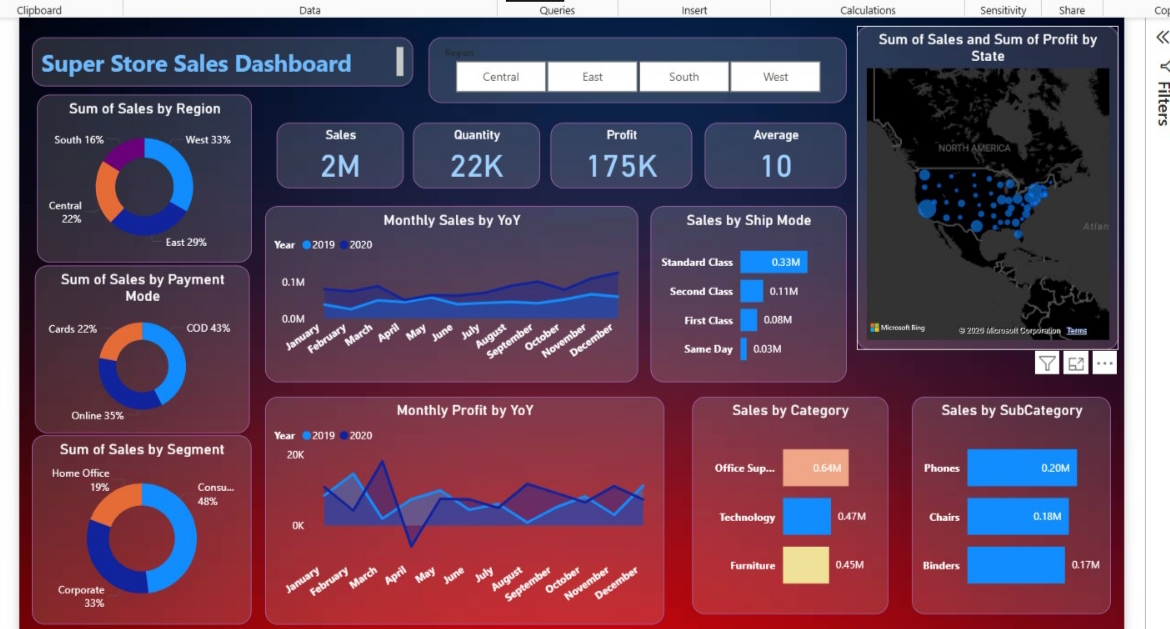

Layout of this report page (visuals, bound fields, positions):
{"tool":"powerbi","page":{"name":"Page 1","canvas":[1280,720],"ordinal":0},"visuals":[{"type":"clusteredBarChart","title":"Sales by Category","fields":{"Category":["SuperStore_Sales_Dataset.Category"],"Y":["Sum(SuperStore_Sales_Dataset.Sales)"]},"box":[779.4,439.1,226.8,252.1],"z":0},{"type":"clusteredBarChart","title":"Sales by SubCategory","fields":{"Category":["SuperStore_Sales_Dataset.Sub-Category"],"Y":["Sum(SuperStore_Sales_Dataset.Sales)"]},"box":[1033.9,439.1,230.4,252.1],"z":1000},{"type":"clusteredBarChart","title":"Sales by Ship Mode","fields":{"Category":["SuperStore_Sales_Dataset.Ship Mode"],"Y":["Sum(SuperStore_Sales_Dataset.Sales)"]},"box":[731.1,218.4,226.8,203.9],"z":2000},{"type":"areaChart","title":"Monthly Sales by YoY","fields":{"Y":["Sum(SuperStore_Sales_Dataset.Sales)"],"Category":["SuperStore_Sales_Dataset.Order Date.Variation.Date Hierarchy.Month","SuperStore_Sales_Dataset.Order Date.Variation.Date Hierarchy.Day"],"Series":["SuperStore_Sales_Dataset.Order Date.Variation.Date Hierarchy.Year"]},"box":[284.7,218.4,431.9,203.9],"z":3000},{"type":"areaChart","title":"Monthly Profit  by YoY","fields":{"Category":["SuperStore_Sales_Dataset.Order Date.Variation.Date Hierarchy.Month","SuperStore_Sales_Dataset.Order Date.Variation.Date Hierarchy.Day"],"Series":["SuperStore_Sales_Dataset.Order Date.Variation.Date Hierarchy.Year"],"Y":["Sum(SuperStore_Sales_Dataset.Profit)"]},"box":[284.7,439.1,462.1,264.2],"z":4000},{"type":"map","fields":{"Category":["SuperStore_Sales_Dataset.State"],"Size":["Sum(SuperStore_Sales_Dataset.Sales)"]},"box":[970,9.7,302.8,375.2],"z":5000},{"type":"donutChart","fields":{"Category":["SuperStore_Sales_Dataset.Segment"],"Y":["Sum(SuperStore_Sales_Dataset.Sales)"]},"box":[14.5,483.8,254.6,219.6],"z":6000},{"type":"donutChart","fields":{"Category":["SuperStore_Sales_Dataset.Payment Mode"],"Y":["Sum(SuperStore_Sales_Dataset.Sales)"]},"box":[18.1,287.1,248.5,194.2],"z":7000},{"type":"slicer","fields":{"Values":["SuperStore_Sales_Dataset.Region"]},"box":[474.1,22.9,483.8,76],"z":8000},{"type":"textbox","box":[14.5,22.9,441.6,56.7],"z":9000},{"type":"card","title":"Sales","fields":{"Values":["Sum(SuperStore_Sales_Dataset.Sales)"]},"box":[298,121.9,147.2,76],"z":10000},{"type":"card","title":"Quantity","fields":{"Values":["Sum(SuperStore_Sales_Dataset.Quantity)"]},"box":[456,121.9,147.2,76],"z":11000},{"type":"card","title":"Profit","fields":{"Values":["Sum(SuperStore_Sales_Dataset.Profit)"]},"box":[615.3,121.9,164.1,76],"z":12000},{"type":"card","title":"Average","fields":{"Values":["Avg(SuperStore_Sales_Dataset.AvgDelivery)"]},"box":[793.8,121.9,164.1,76],"z":13000},{"type":"donutChart","fields":{"Category":["SuperStore_Sales_Dataset.Region"],"Y":["Sum(SuperStore_Sales_Dataset.Sales)"]},"box":[20.5,89.3,248.5,194.2],"z":14000}]}

Visuals, with their boxes on the page's 1280x720 design canvas (x1, y1, x2, y2). These are canvas units, not pixel positions in the 1170x629 screenshot, which may show the page scaled, cropped or inside an application window:
"Sales by Category" clusteredBarChart: crop(779, 439, 1006, 691)
"Sales by SubCategory" clusteredBarChart: crop(1034, 439, 1264, 691)
"Sales by Ship Mode" clusteredBarChart: crop(731, 218, 958, 422)
"Monthly Sales by YoY" areaChart: crop(285, 218, 717, 422)
"Monthly Profit  by YoY" areaChart: crop(285, 439, 747, 703)
map - SuperStore_Sales_Dataset.State x Sum(SuperStore_Sales_Dataset.Sales): crop(970, 10, 1273, 385)
donutChart - SuperStore_Sales_Dataset.Segment x Sum(SuperStore_Sales_Dataset.Sales): crop(14, 484, 269, 703)
donutChart - SuperStore_Sales_Dataset.Payment Mode x Sum(SuperStore_Sales_Dataset.Sales): crop(18, 287, 267, 481)
slicer - SuperStore_Sales_Dataset.Region: crop(474, 23, 958, 99)
textbox: crop(14, 23, 456, 80)
"Sales" card: crop(298, 122, 445, 198)
"Quantity" card: crop(456, 122, 603, 198)
"Profit" card: crop(615, 122, 779, 198)
"Average" card: crop(794, 122, 958, 198)
donutChart - SuperStore_Sales_Dataset.Region x Sum(SuperStore_Sales_Dataset.Sales): crop(20, 89, 269, 284)
